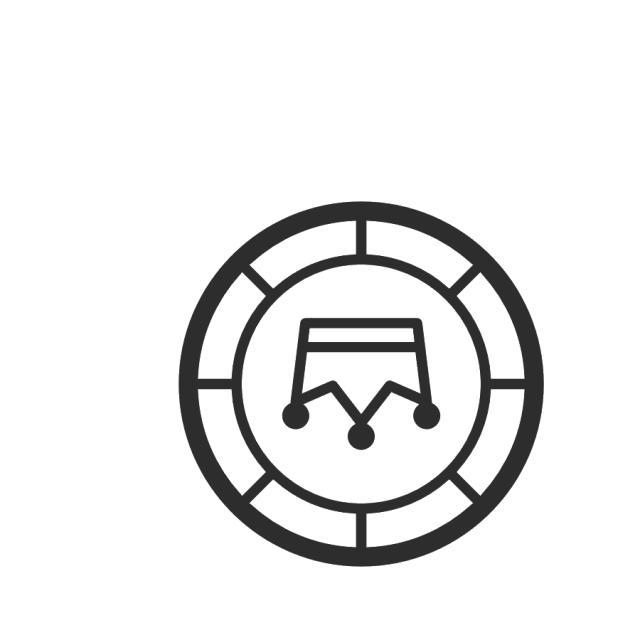coin: (172, 195, 551, 576)
